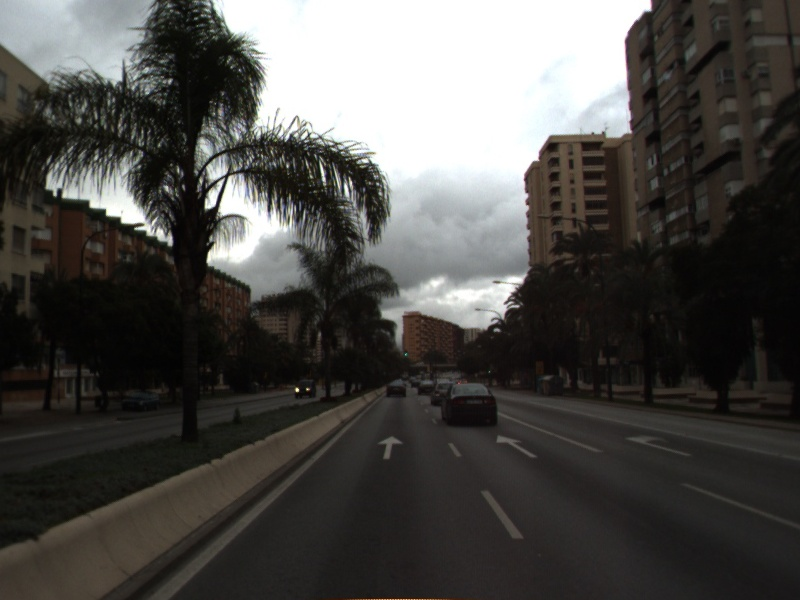RIGHT: (622, 431, 695, 459)
STRAIGHT: (494, 433, 541, 460), (375, 433, 406, 461)
